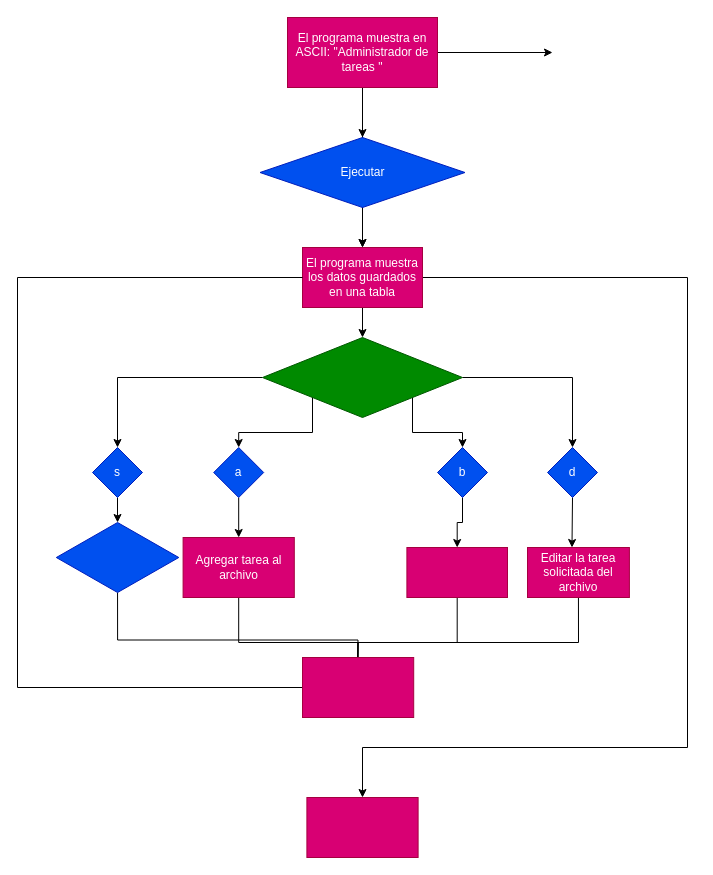
Some shapes in this 713 by 875 pixel diagram are drawn without their labels. Here are the shapes that lost their labels. From the top down, the box of each, then its label:
(262, 336, 462, 418): Ingrese una tecla
(55, 522, 179, 592): Ejecutar = False
(406, 546, 508, 598): Borrar tarea solicitada al archivo
(302, 656, 414, 718): Mostrar datos de la tabla
(306, 796, 418, 858): FIN
